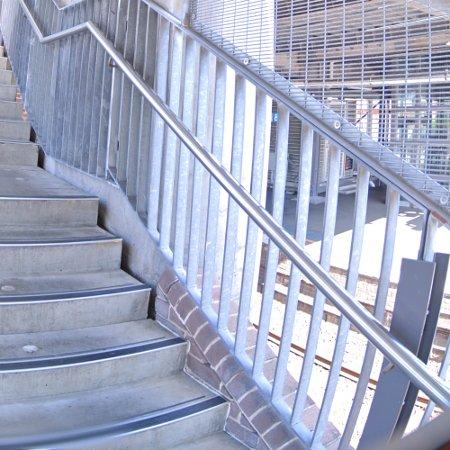stairs: (0, 46, 246, 450)
